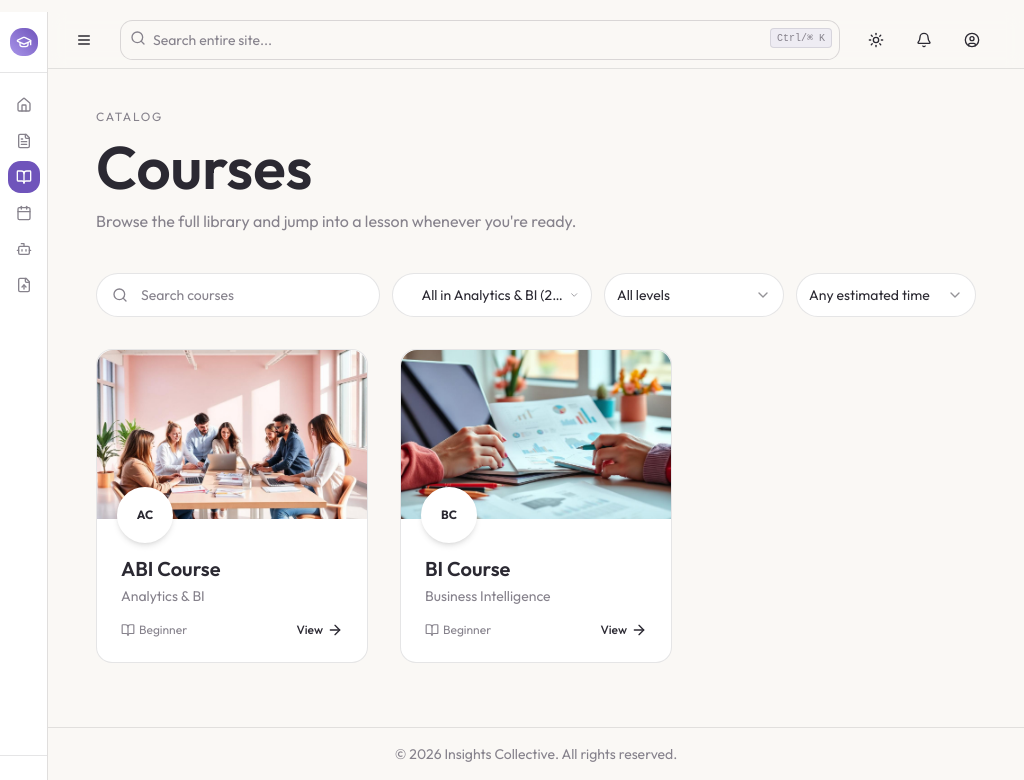
category menu names are unique after whitespace normalization › from ?category=analytics, the name All in Analytics & BI (2 categories) (category) selects exactly one option: ?category=all-in-analytics-bi-2-categories, exact
Later steps or results of the test are not shown.
What coordinates should you click on to do the following:
click the dropdown named "Category"
I would click on:
 (492, 295)
Its box is [392,273,592,317].
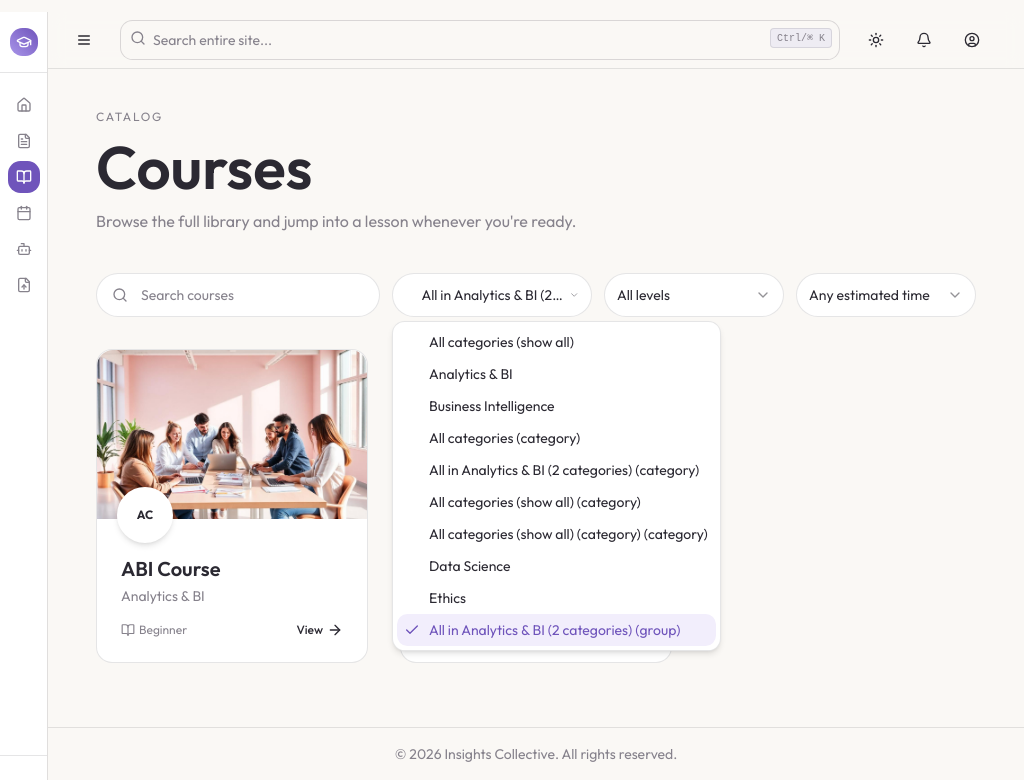
Now the number of options "All in Analytics & BI (2 categories) (category)" is 1, box [429,461,699,479]
